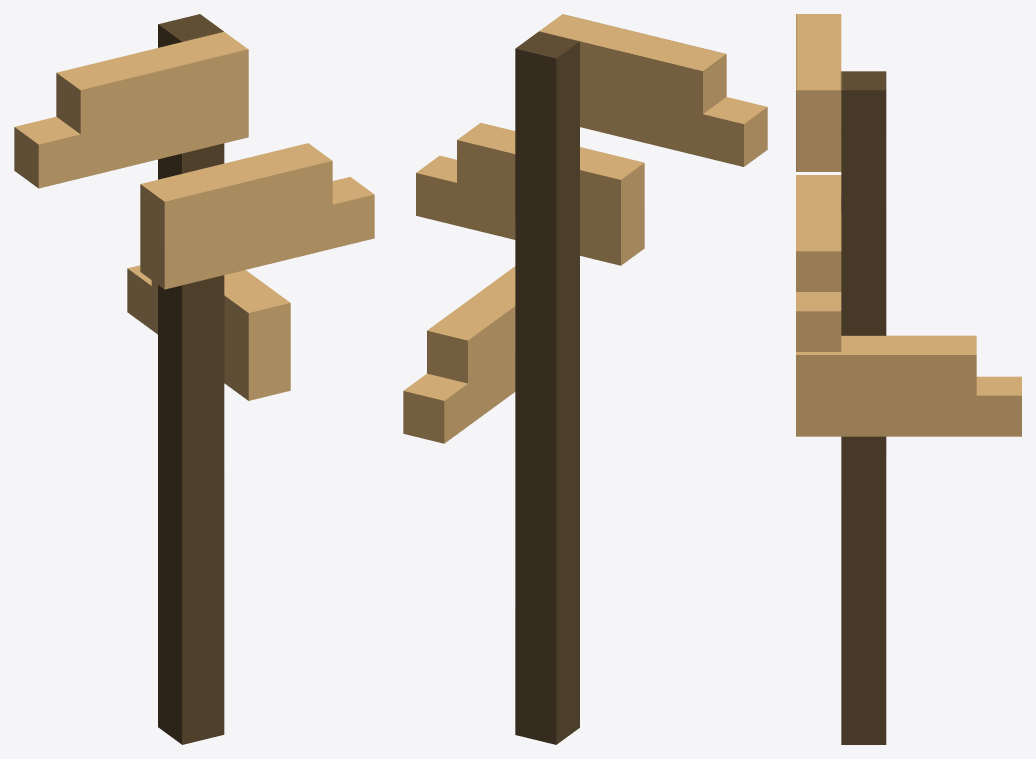
Rendered from Sing_Post.glb.
3 renders of one model, left to right at view 1: azimuth 30°, elevation 25°; view 2: azimuth 150°, elevation 25°; view 3: azimuth 270°, elevation 25°, orthographic. The views are drawn at different scales.
Visible parts, largest first — view 1: Sing_Post; view 2: Sing_Post; view 3: Sing_Post.
Boxes of the visible parts, x1,y1,x2,y2 form: Sing_Post: (14,14,374,744); Sing_Post: (403,14,767,744); Sing_Post: (796,14,1021,744).
Size of the model in its own units: 0.8 by 1.6 by 0.5.
1 material, 1 textured.
